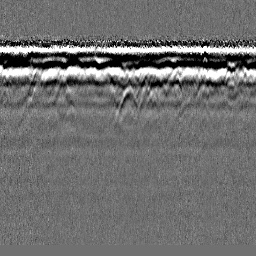cavity: (115, 84, 138, 123)
